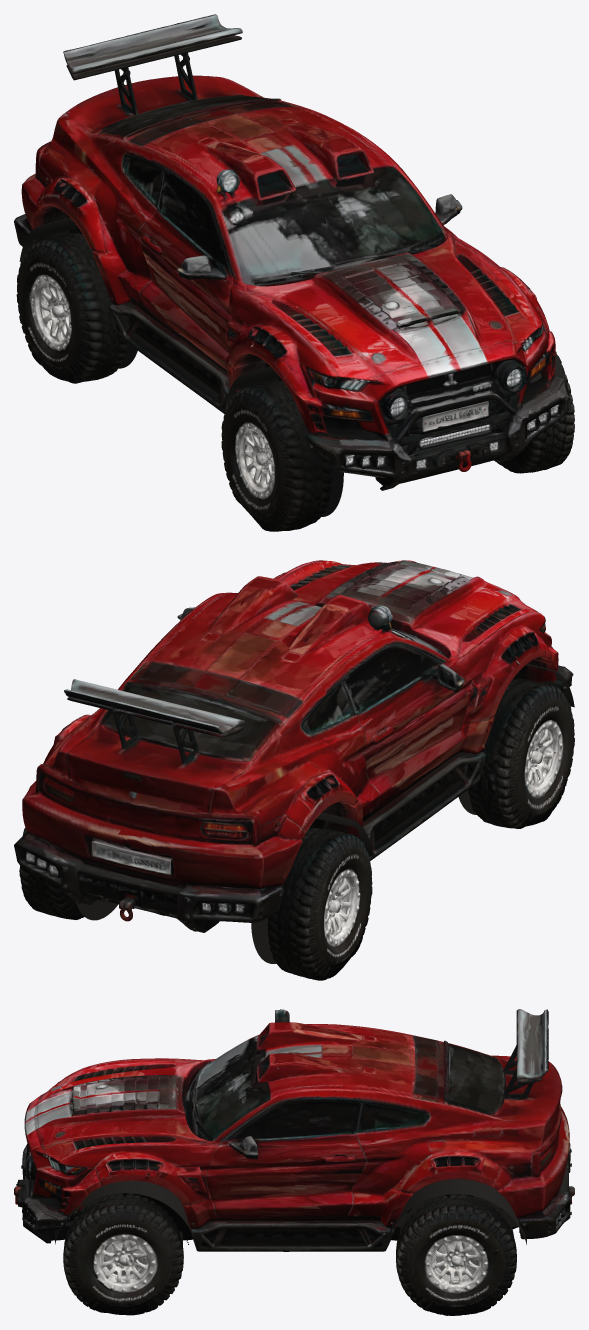
The model's file is red_monster_truck_hero.glb.
3 views of the same model, one above another, from view 1: azimuth 30°, elevation 25°; view 2: azimuth 150°, elevation 25°; view 3: azimuth 270°, elevation 25° (orthographic). The views are drawn at different scales.
Visible parts, largest first — view 1: Body, Wheel_FL, Wheel_RL, Wheel_FR; view 2: Body, Wheel_RL, Wheel_FL, Wheel_RR; view 3: Body, Wheel_FR, Wheel_RR.
Boxes of the visible parts, x1,y1,x2,y2 form: Body: (14, 14, 571, 490); Wheel_FL: (221, 380, 343, 531); Wheel_RL: (16, 233, 137, 383); Wheel_FR: (494, 352, 574, 473); Body: (14, 560, 574, 932); Wheel_RL: (251, 827, 372, 980); Wheel_FL: (458, 669, 574, 828); Wheel_RR: (19, 828, 118, 920); Body: (14, 1009, 574, 1251); Wheel_FR: (63, 1193, 189, 1315); Wheel_RR: (396, 1194, 516, 1315).
Bounding box in the file's own units: 2.46 × 2.14 × 4.91.
Materials: 2 (1 with a texture image).
